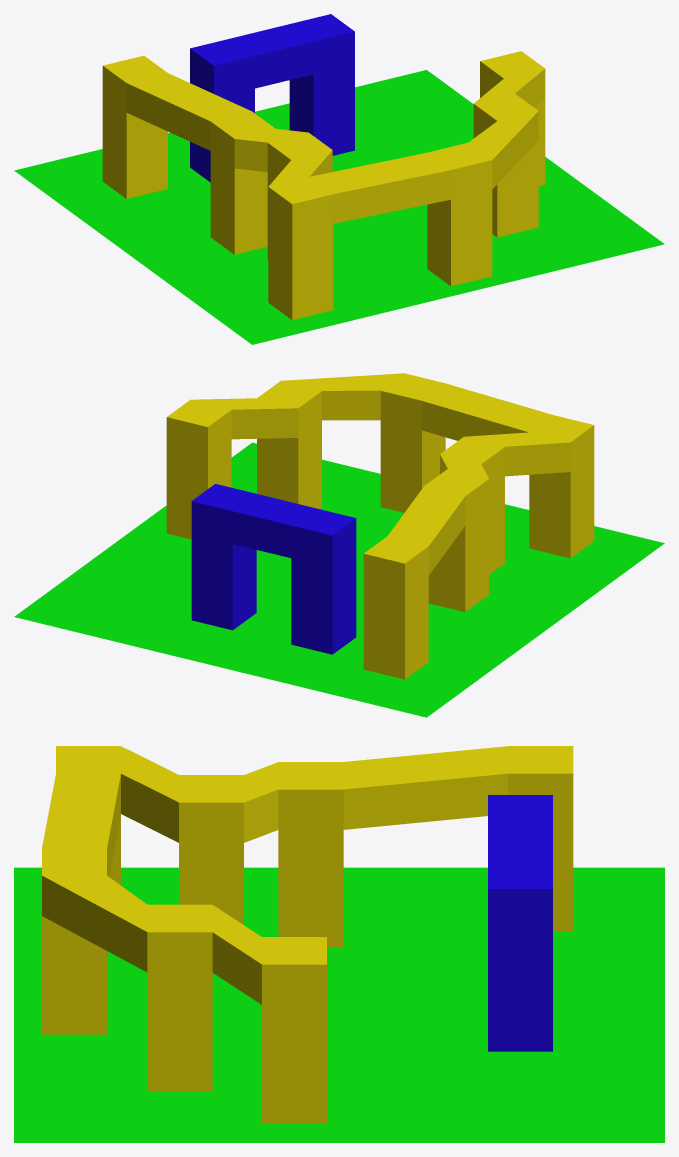
Rendered from map3.glb.
3 renders of one model, top to bottom at view 1: azimuth 30°, elevation 25°; view 2: azimuth 150°, elevation 25°; view 3: azimuth 270°, elevation 25°, orthographic. The views are drawn at different scales.
Visible parts, largest first — view 1: Cube, Plane, Cube.002; view 2: Cube, Plane, Cube.002; view 3: Plane, Cube, Cube.002.
Part boxes in pixels (bbox=[...]): Cube: bbox=[102, 51, 545, 320]; Plane: bbox=[14, 70, 664, 344]; Cube.002: bbox=[190, 14, 354, 182]; Cube: bbox=[166, 373, 594, 679]; Plane: bbox=[14, 442, 664, 717]; Cube.002: bbox=[191, 484, 356, 654]; Plane: bbox=[14, 867, 664, 1142]; Cube: bbox=[42, 746, 573, 1123]; Cube.002: bbox=[488, 795, 552, 1051].
Bounding box in the file's own units: 2 × 0.5537 × 2.
